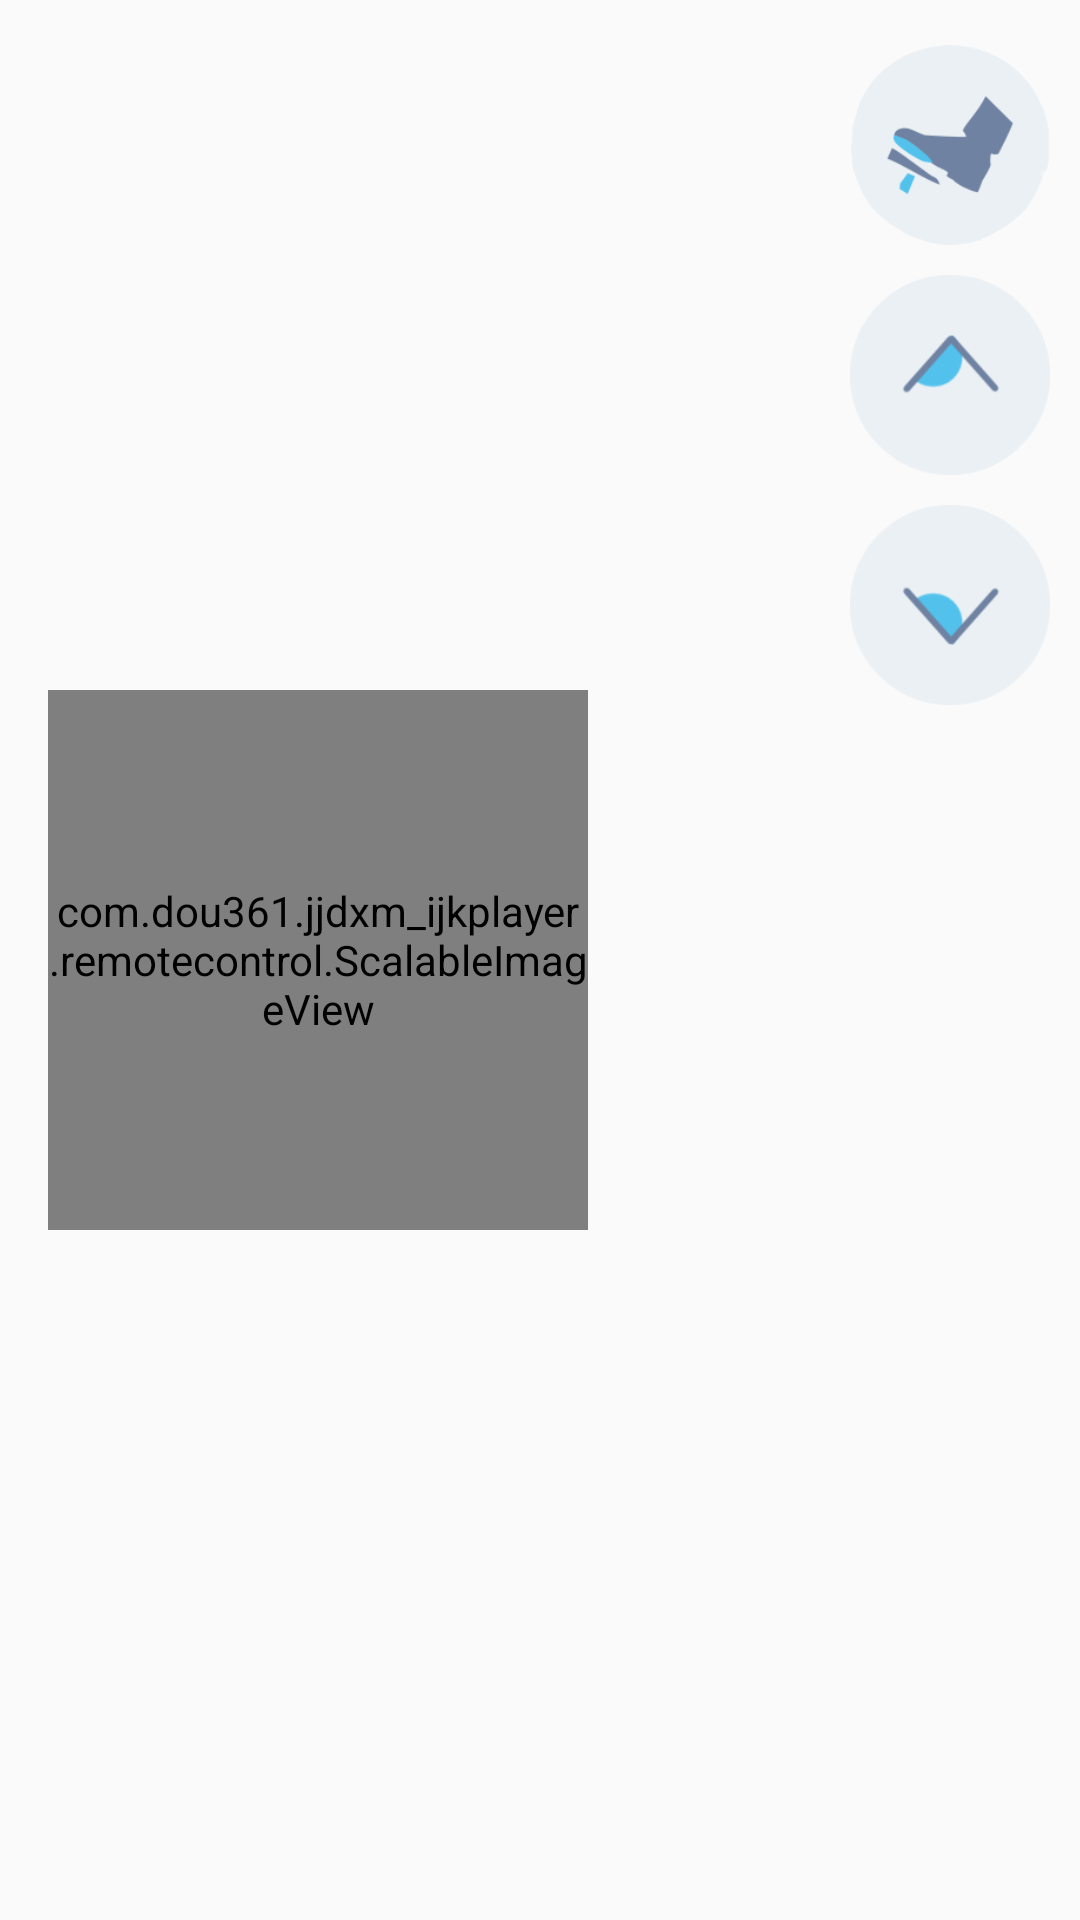

Named icons in this screenshot (1080 x 1920) and their centers, point (x, y):
backward: point (950, 605)
brake: point (950, 145)
forward: point (950, 375)
